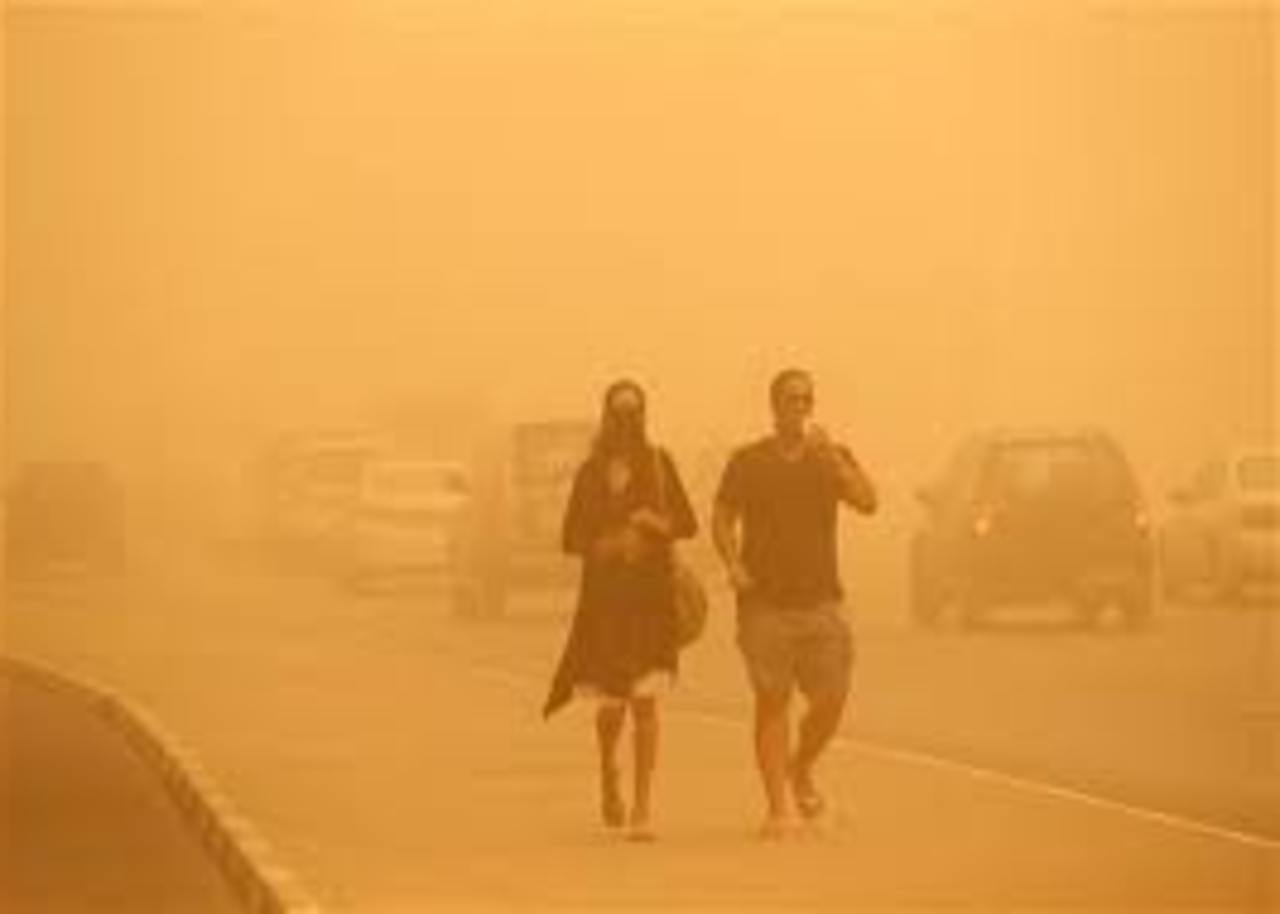car: (911, 427, 1167, 624), (444, 415, 591, 624), (342, 452, 473, 595), (1159, 445, 1275, 601), (261, 435, 371, 579), (2, 454, 133, 572)
person: (708, 369, 880, 830), (542, 374, 697, 839)
